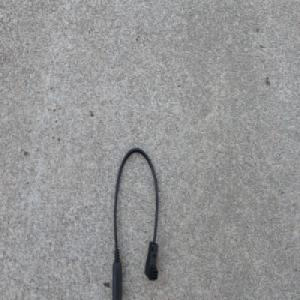Wire: (111, 145, 161, 300)
